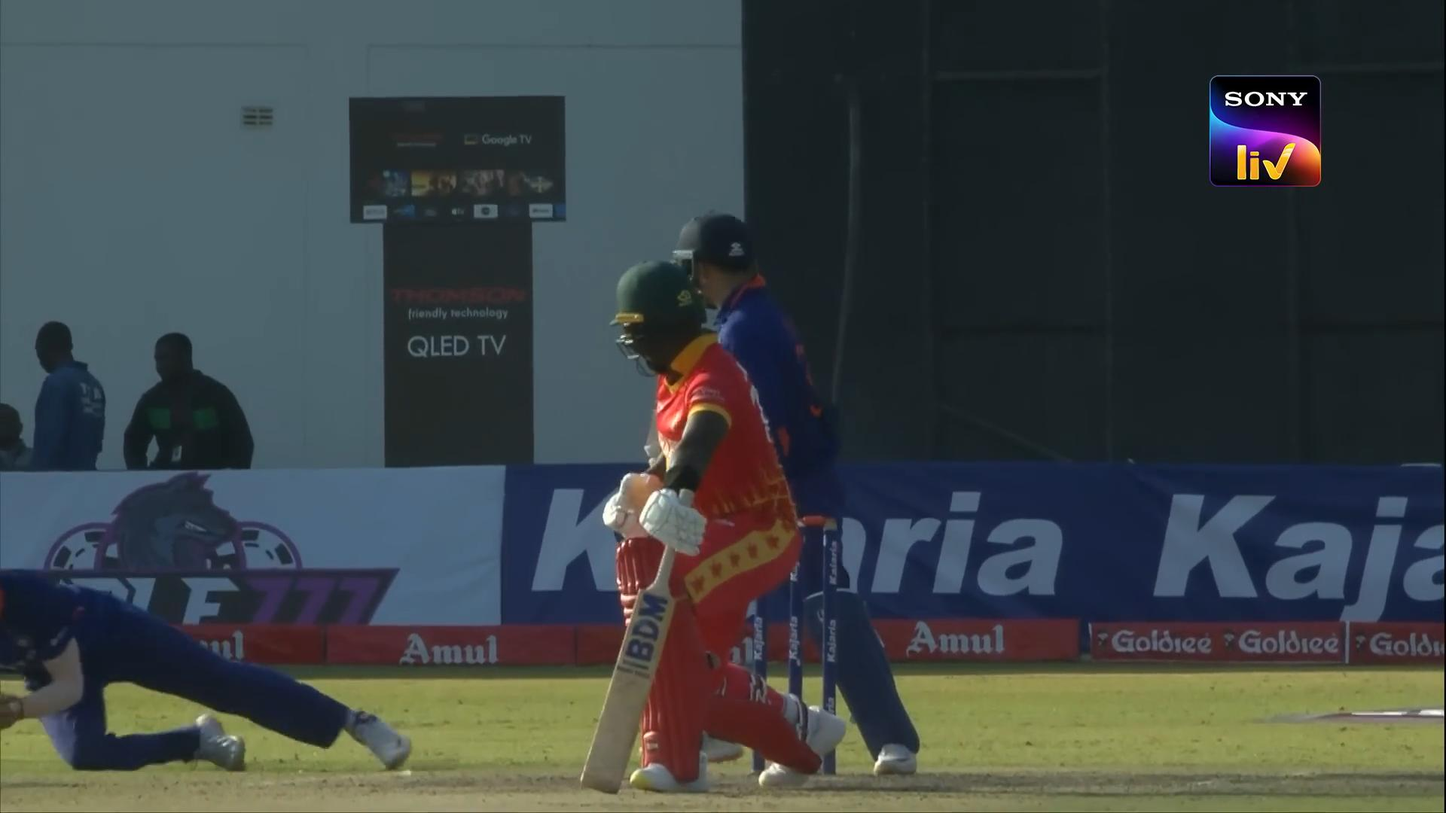batsman: (581, 258, 846, 795)
